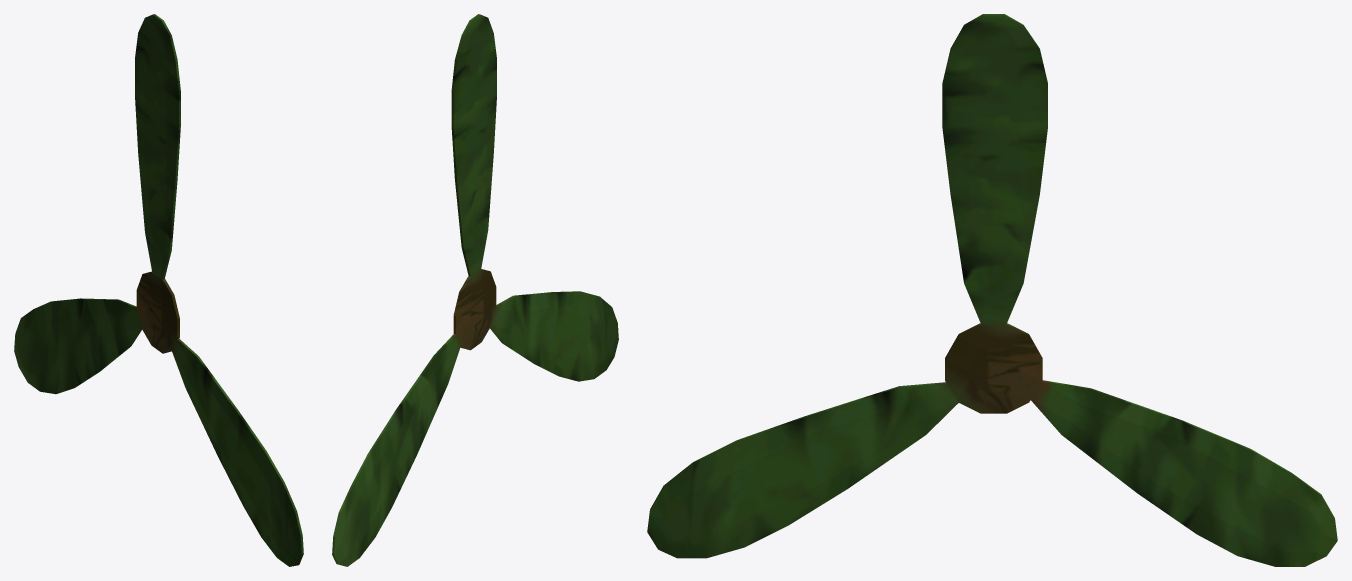
The model's file is Fan.glb.
The picture shows the model from 3 angles, left to right: view 1: azimuth 30°, elevation 25°; view 2: azimuth 150°, elevation 25°; view 3: azimuth 270°, elevation 25°; orthographic projection. The views are drawn at different scales.
Parts seen in each view (by area): view 1: Fan; view 2: Fan; view 3: Fan.
Boxes of the visible parts, left/top/right/bottom form: Fan: left=14, top=14, right=303, bottom=566; Fan: left=332, top=14, right=618, bottom=566; Fan: left=647, top=14, right=1337, bottom=566.
Size of the model in its own units: 7.55 by 623 by 707.
1 material, 1 textured.
